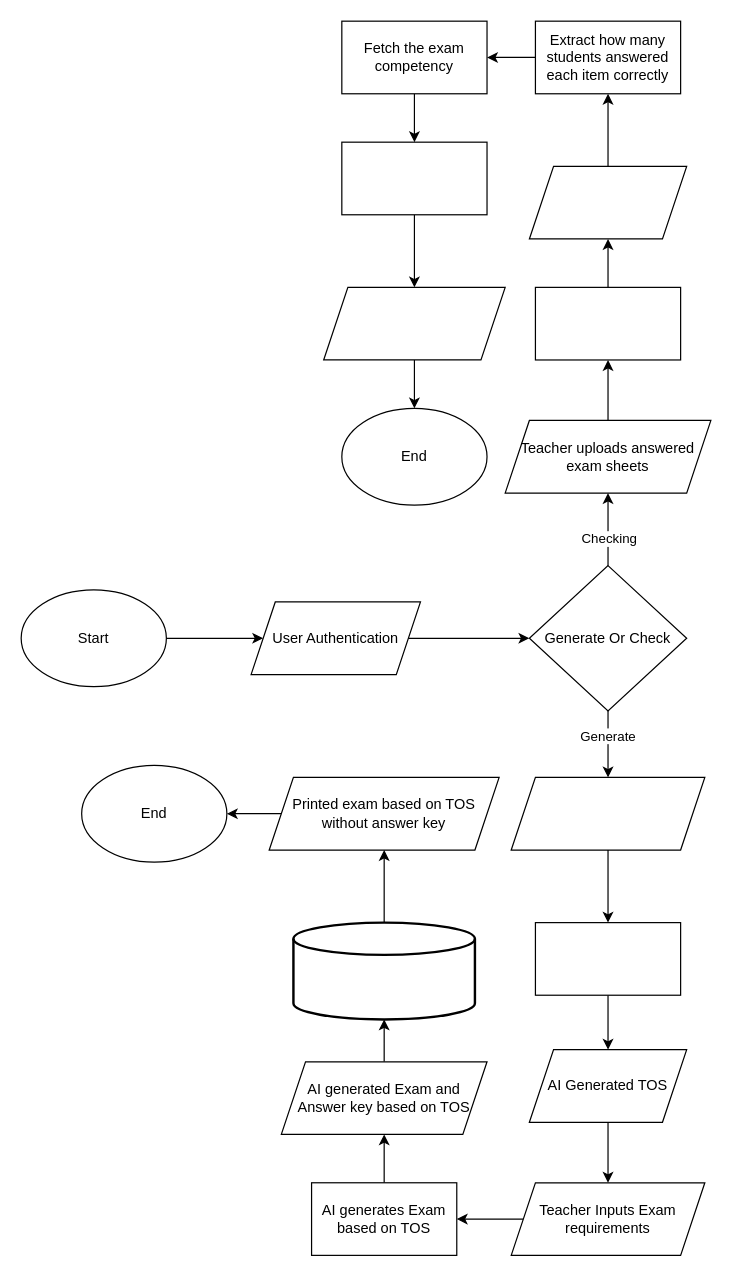
Some shapes in this 732 by 1277 pixel diagram are drawn without their labels. Here are the shapes that lost their labels. From the top down, the box of each, then its label:
(341, 141, 487, 215): AI performs Item Analysis
(528, 165, 687, 239): Score of Students
(322, 286, 505, 360): Item Analysis
(534, 286, 681, 360): Automated Exam Checking
(510, 776, 705, 850): Teacher Inputs TOS requirements
(292, 921, 476, 1020): Teacher saves exam and Answer key in database
(534, 921, 681, 995): AI Generates TOS
